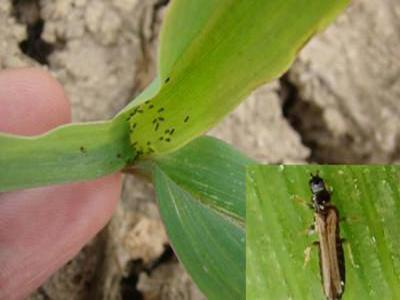Thripidae: (300, 166, 352, 299)
